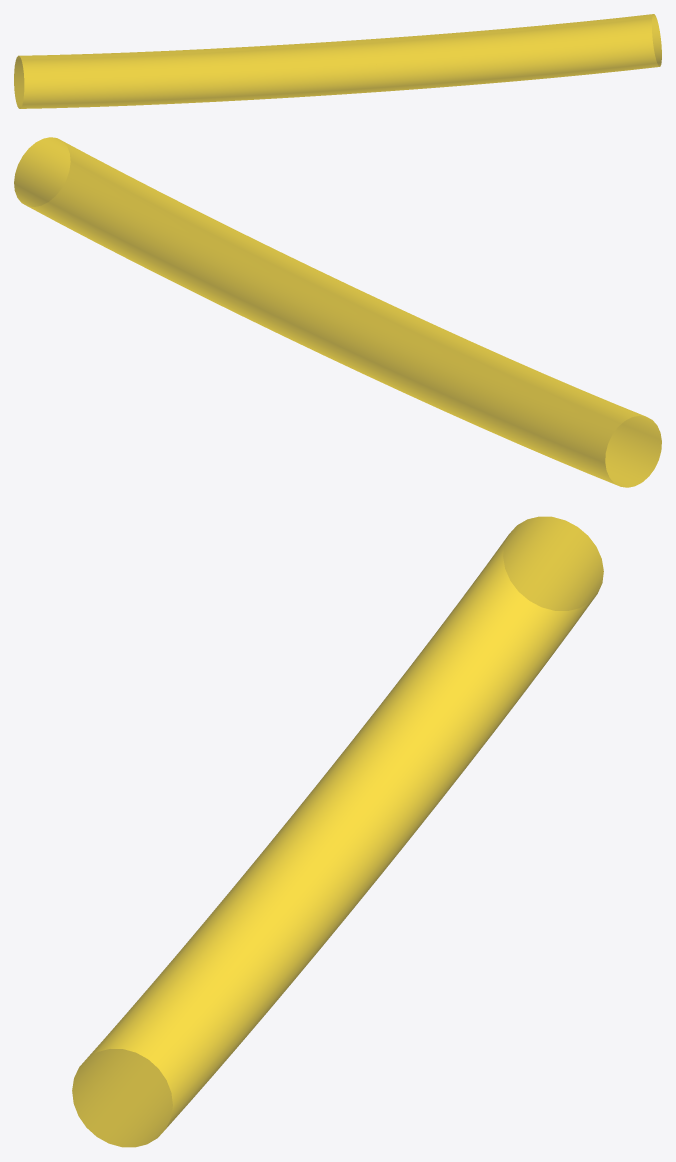
Rendered from Event_31209032_track_27.fbx.
The picture shows the model from 3 angles, top to bottom: view 1: azimuth 30°, elevation 25°; view 2: azimuth 150°, elevation 25°; view 3: azimuth 270°, elevation 25°; orthographic projection. The views are drawn at different scales.
Parts seen in each view (by area): view 1: Model; view 2: Model; view 3: Model.
Part boxes in pixels (<box>): Model: <box>14,14,661,108</box>; Model: <box>14,137,661,487</box>; Model: <box>72,516,603,1147</box>.
Bounding box in the file's own units: 0.4715 × 0.0495 × 0.1991.
